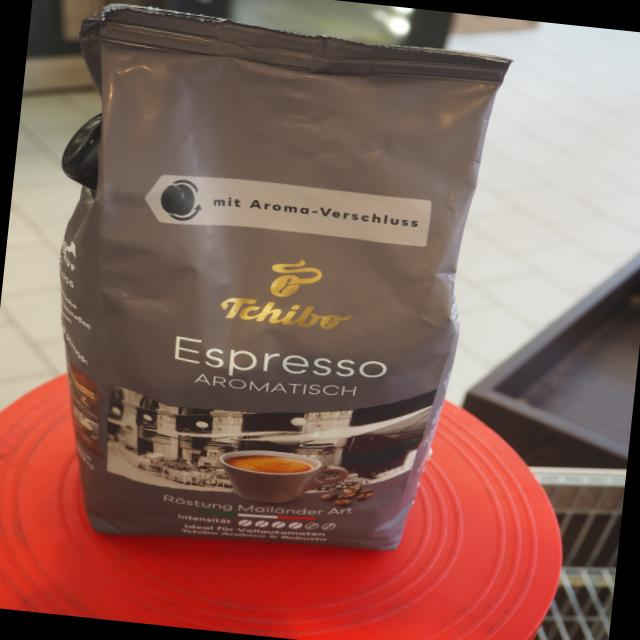Espresso Aromatisch: (9, 0, 520, 573)
